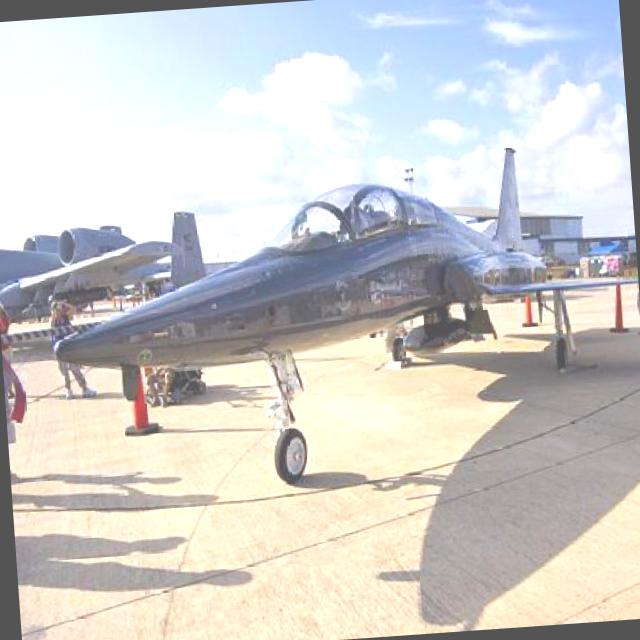Person: (46, 292, 98, 402)
